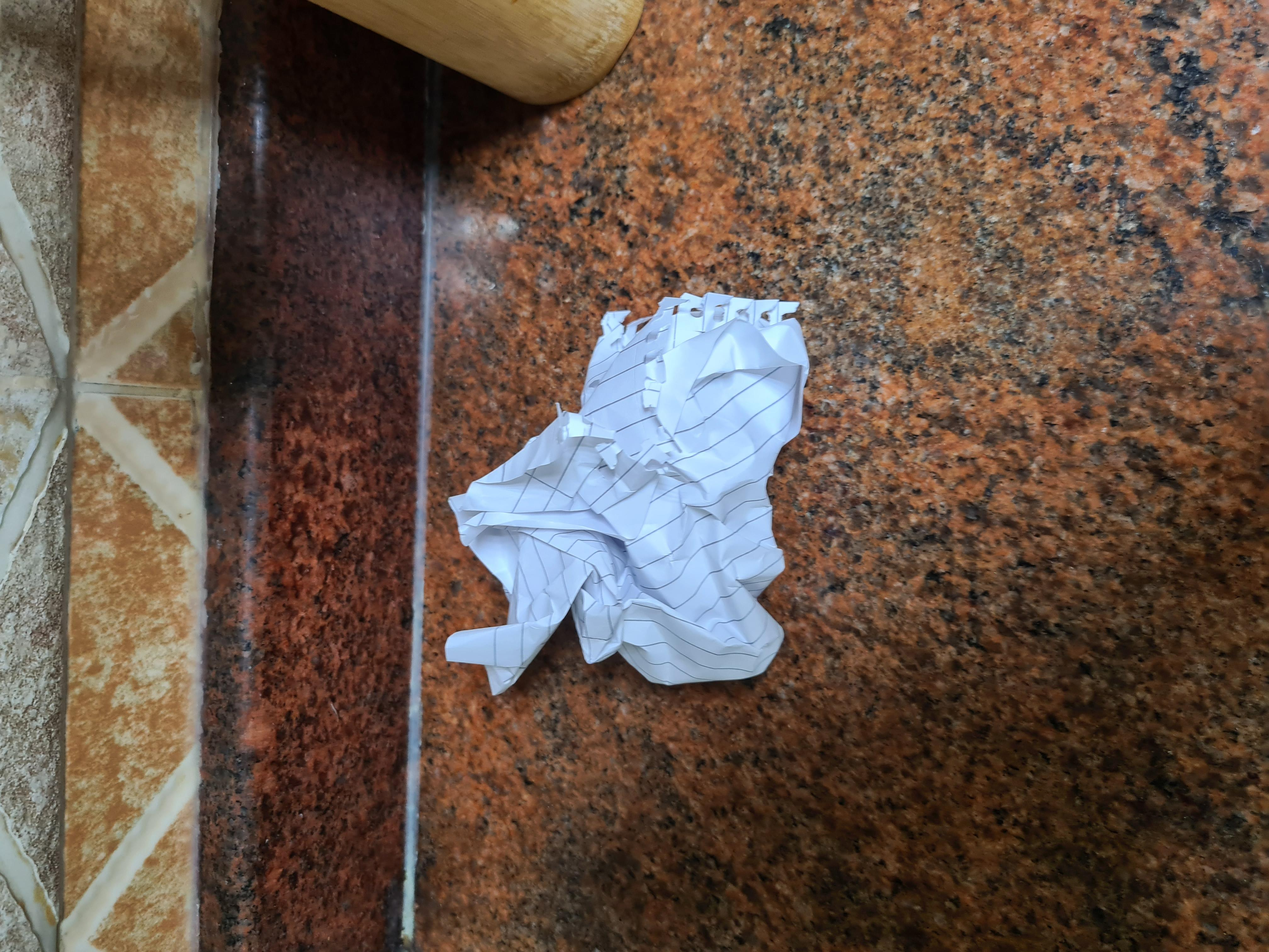paper: (345, 326, 908, 600)
